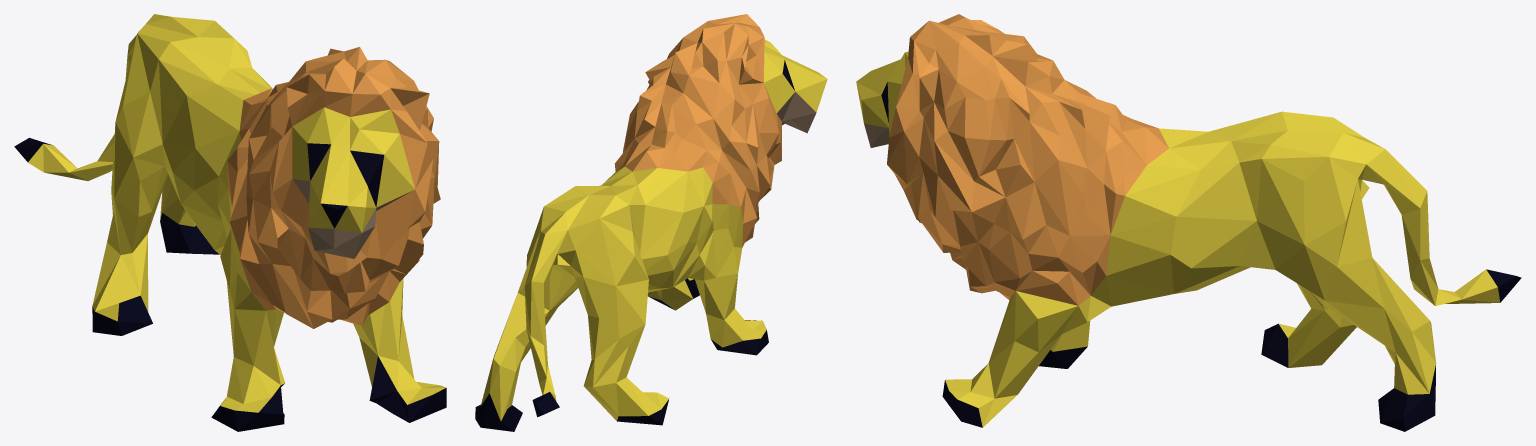
Rendered from lion_low_poly.fbx.
The picture shows the model from 3 angles, left to right: view 1: azimuth 30°, elevation 25°; view 2: azimuth 150°, elevation 25°; view 3: azimuth 270°, elevation 25°; orthographic projection. The views are drawn at different scales.
Visible parts, largest first — view 1: Model; view 2: Model; view 3: Model.
Part boxes in pixels (left/top/right/bottom): Model: left=14, top=14, right=446, bottom=431; Model: left=475, top=14, right=827, bottom=431; Model: left=856, top=14, right=1521, bottom=431.
Bounding box in the file's own units: 4.8 × 9.11 × 15.02.
